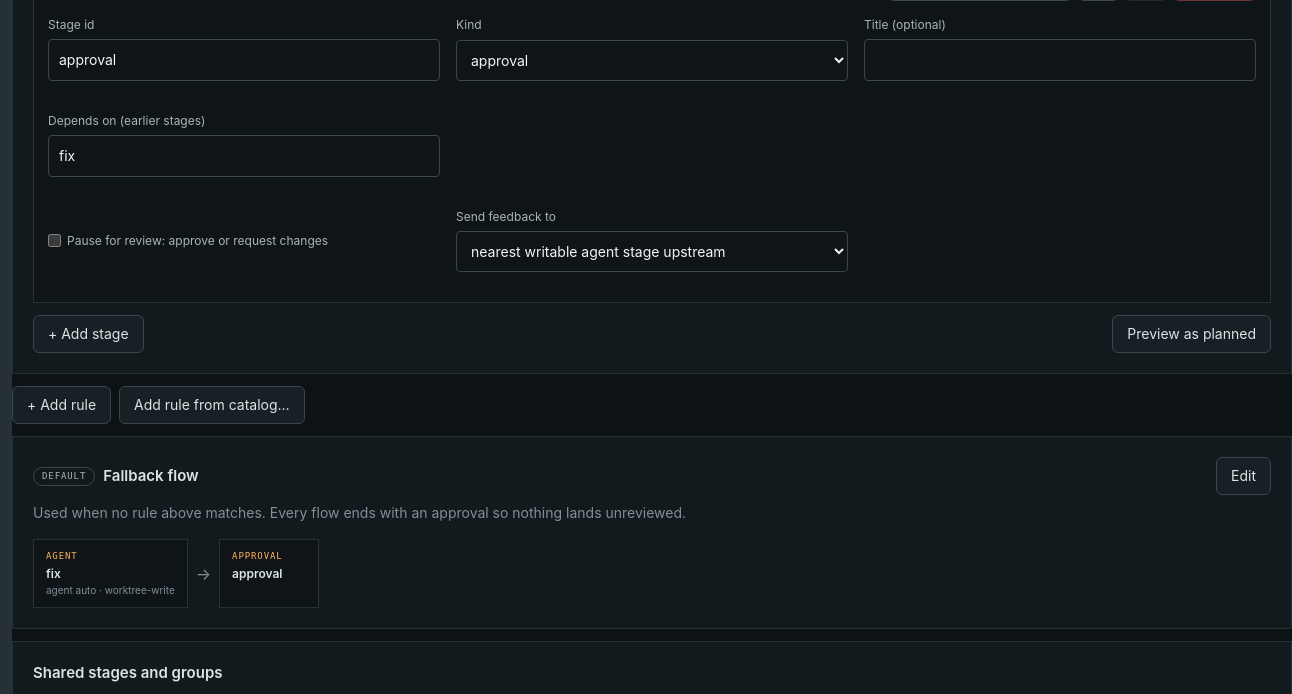
Scenario: RulesView › previews a flow as Go expands it
(page scrolled)
Click the button "Preview as planned" at (1192, 334), box [1112,315,1271,353]
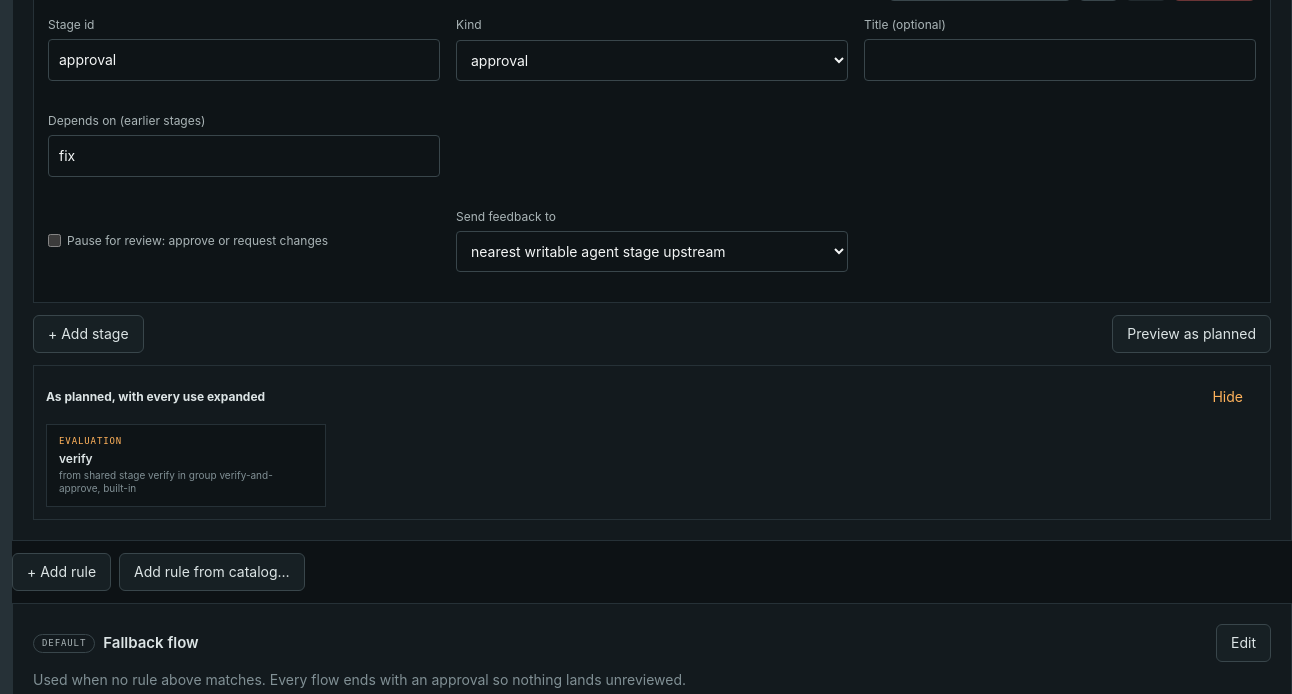
Result: the element named "Stages of bugfix as planned" shows "from shared stage verify in group verify-and-approve, built-in" at [59,468,273,494]
